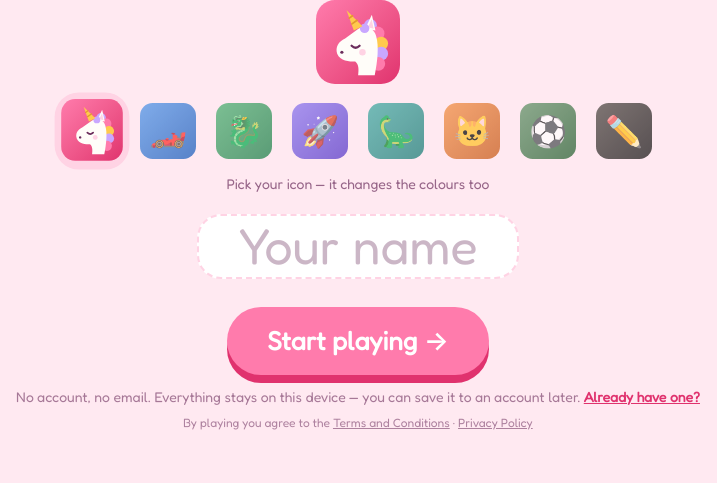
Scenario: starting play from the homepage › says what is wrong and puts the cursor in the field
Click the button "Start playing →": [358, 341] box x1=227 y1=307 x2=489 y2=375
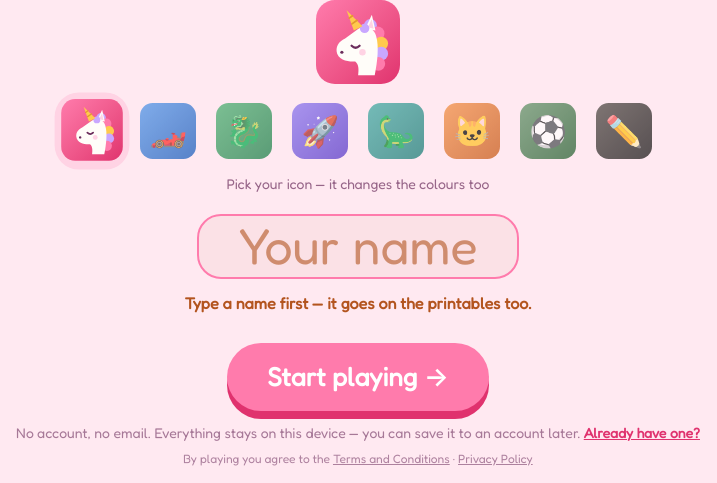
Expected: the message shows "Type a name first", x1=184 y1=293 x2=532 y2=313
